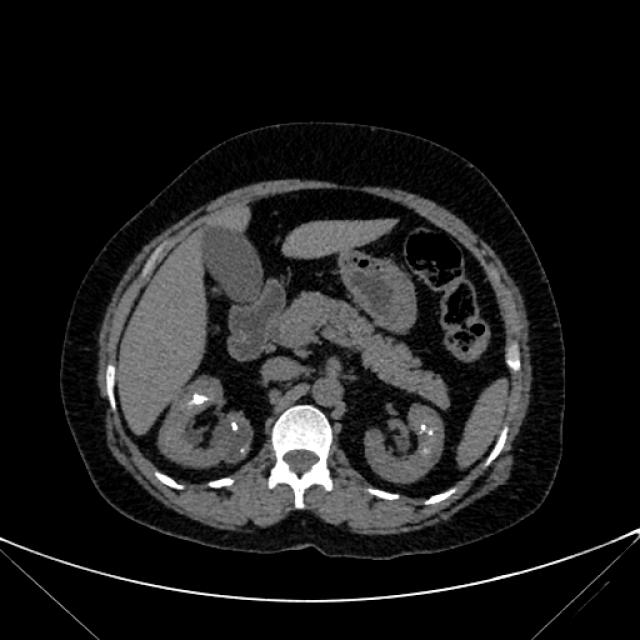kidney: (169, 386, 246, 466), (371, 407, 437, 479)
stone: (193, 394, 205, 404), (420, 425, 426, 432), (232, 423, 237, 430), (428, 430, 433, 434), (424, 449, 428, 454), (242, 449, 244, 452)
